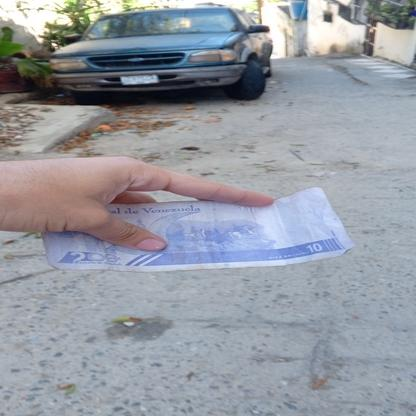ten-back-vef: (43, 187, 354, 271)
